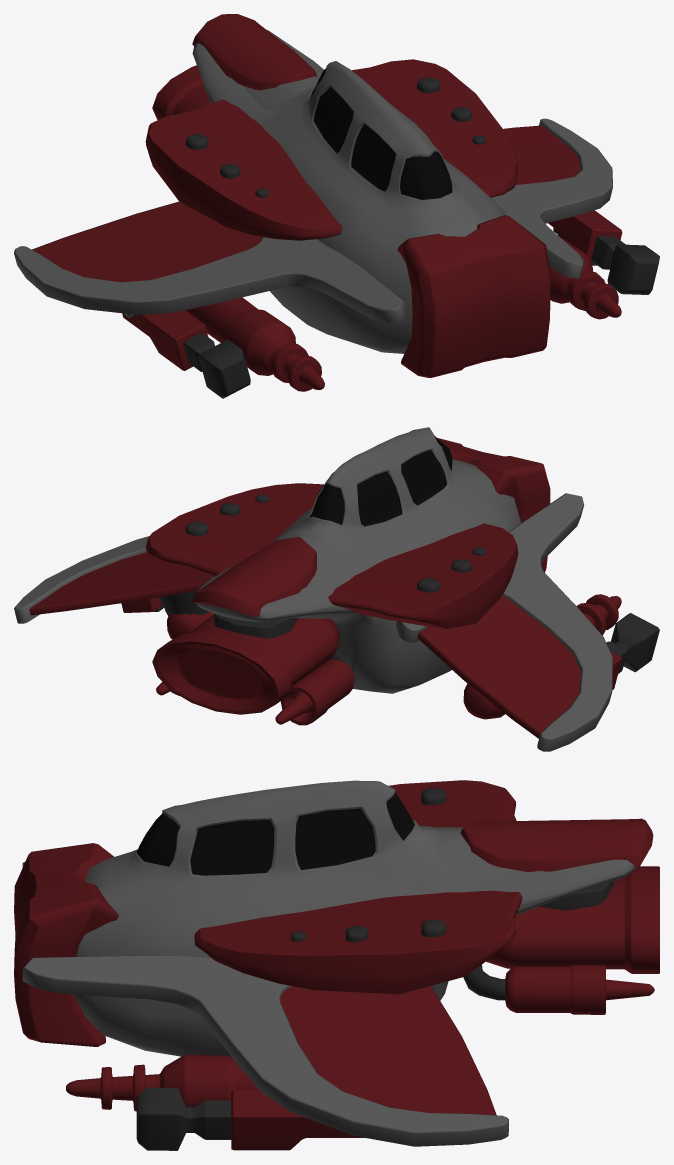
File: Boss2.glb
3 renders of one model, top to bottom at view 1: azimuth 30°, elevation 25°; view 2: azimuth 150°, elevation 25°; view 3: azimuth 270°, elevation 25°, orthographic. The views are drawn at different scales.
Parts seen in each view (by area): view 1: Ship_Boss_02_Hull, Ship_Boss_02_Wing_R, Ship_Boss_02_Wing_L, Ship_Boss_02_Weapon_R_02, Ship_Boss_02_Weapon_R_01, Ship_Boss_02_Weapon_L_01, Ship_Boss_02_Weapon_L_02, Ship_Boss_02_Engine; view 2: Ship_Boss_02_Hull, Ship_Boss_02_Wing_R, Ship_Boss_02_Engine, Ship_Boss_02_Wing_L, Ship_Boss_02_Weapon_R_01, Ship_Boss_02_Weapon_R_02, Ship_Boss_02_Weapon_L_02, Ship_Boss_02_Weapon_L_01; view 3: Ship_Boss_02_Hull, Ship_Boss_02_Wing_L, Ship_Boss_02_Engine, Ship_Boss_02_Weapon_L_01, Ship_Boss_02_Weapon_L_02.
Boxes of the visible parts, bbox=[...] form: Ship_Boss_02_Hull: bbox=[145, 14, 550, 377]; Ship_Boss_02_Wing_R: bbox=[14, 201, 407, 322]; Ship_Boss_02_Wing_L: bbox=[491, 118, 612, 278]; Ship_Boss_02_Weapon_R_02: bbox=[185, 297, 324, 391]; Ship_Boss_02_Weapon_R_01: bbox=[122, 310, 250, 398]; Ship_Boss_02_Weapon_L_01: bbox=[548, 210, 659, 294]; Ship_Boss_02_Weapon_L_02: bbox=[549, 238, 621, 319]; Ship_Boss_02_Engine: bbox=[152, 65, 211, 119]; Ship_Boss_02_Hull: bbox=[145, 427, 550, 693]; Ship_Boss_02_Wing_R: bbox=[395, 493, 612, 751]; Ship_Boss_02_Engine: bbox=[152, 613, 354, 725]; Ship_Boss_02_Wing_L: bbox=[14, 536, 212, 623]; Ship_Boss_02_Weapon_R_01: bbox=[606, 613, 659, 689]; Ship_Boss_02_Weapon_R_02: bbox=[463, 594, 621, 719]; Ship_Boss_02_Weapon_L_02: bbox=[158, 591, 214, 639]; Ship_Boss_02_Weapon_L_01: bbox=[121, 597, 163, 612]; Ship_Boss_02_Hull: bbox=[14, 780, 653, 1056]; Ship_Boss_02_Wing_L: bbox=[22, 955, 508, 1146]; Ship_Boss_02_Engine: bbox=[463, 866, 659, 1014]; Ship_Boss_02_Weapon_L_01: bbox=[136, 1087, 364, 1150]; Ship_Boss_02_Weapon_L_02: bbox=[66, 1054, 259, 1111].
Size of the model in its own units: 13.81 by 5.32 by 11.94.
Materials: 1 (1 with a texture image).
